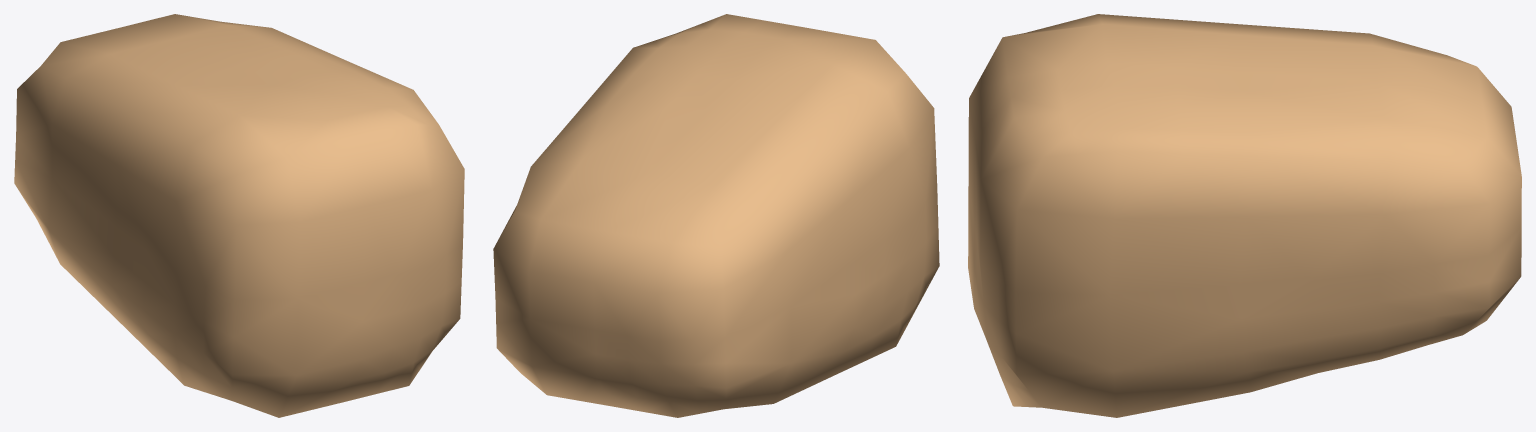
File: middle_02_r.dae
The picture shows the model from 3 angles, left to right: view 1: azimuth 30°, elevation 25°; view 2: azimuth 150°, elevation 25°; view 3: azimuth 270°, elevation 25°; orthographic projection. The views are drawn at different scales.
Visible parts, largest first — view 1: skin_geo_middle_02_r; view 2: skin_geo_middle_02_r; view 3: skin_geo_middle_02_r.
Part boxes in pixels (<box>): skin_geo_middle_02_r: <box>14,14,464,417</box>; skin_geo_middle_02_r: <box>493,14,939,417</box>; skin_geo_middle_02_r: <box>968,14,1521,417</box>.
Bounding box in the file's own units: 0.0221 × 0.0342 × 0.0215.
